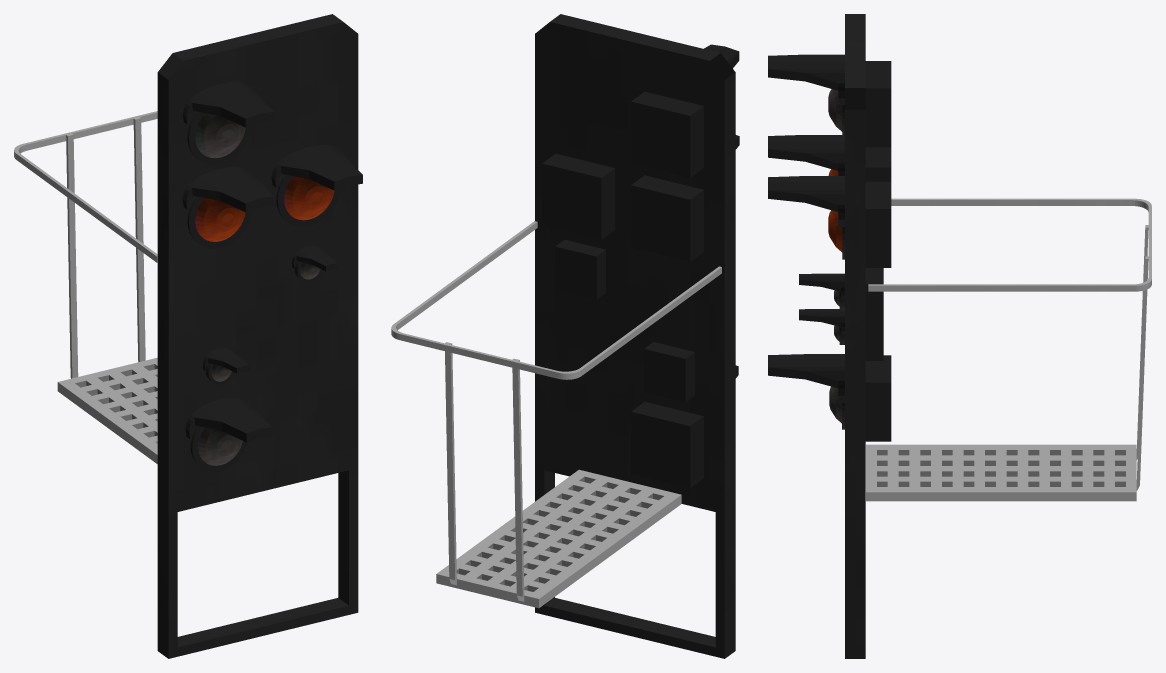
The picture shows the model from 3 angles, left to right: view 1: azimuth 30°, elevation 25°; view 2: azimuth 150°, elevation 25°; view 3: azimuth 270°, elevation 25°; orthographic projection. The views are drawn at different scales.
Parts seen in each view (by area): view 1: HV_HP; view 2: HV_HP; view 3: HV_HP.
Part boxes in pixels (box(x1,y1,x2,y2)): HV_HP: box(14, 14, 362, 658); HV_HP: box(391, 14, 739, 658); HV_HP: box(768, 14, 1151, 658).
Bounding box in the file's own units: 0.64 × 1.92 × 1.18.
Materials: 1 (1 with a texture image).
